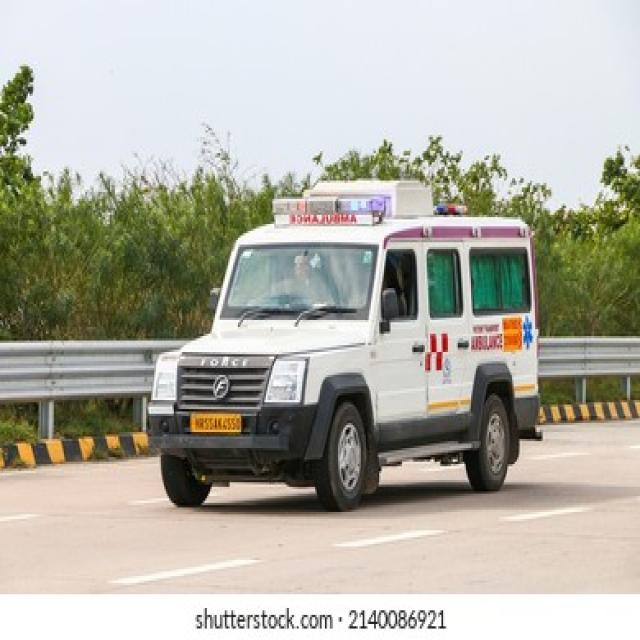ambulance: (145, 178, 541, 505)
